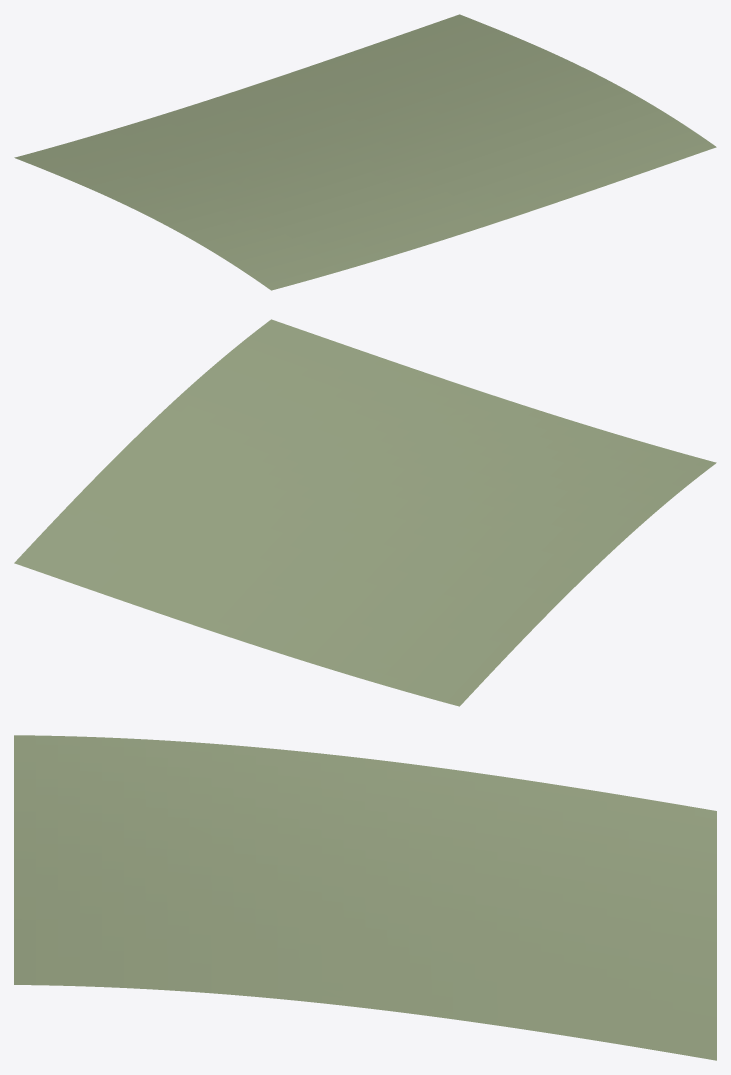
Rendered from valley-9-14.glb.
3 renders of one model, top to bottom at view 1: azimuth 30°, elevation 25°; view 2: azimuth 150°, elevation 25°; view 3: azimuth 270°, elevation 25°, orthographic. The views are drawn at different scales.
Parts seen in each view (by area): view 1: valley-9-14; view 2: valley-9-14; view 3: valley-9-14.
Boxes of the visible parts, <box> form: valley-9-14: <box>14,14,716,290</box>; valley-9-14: <box>14,319,716,706</box>; valley-9-14: <box>14,735,716,1060</box>.
Bounding box in the file's own units: 256 × 49.51 × 256.
